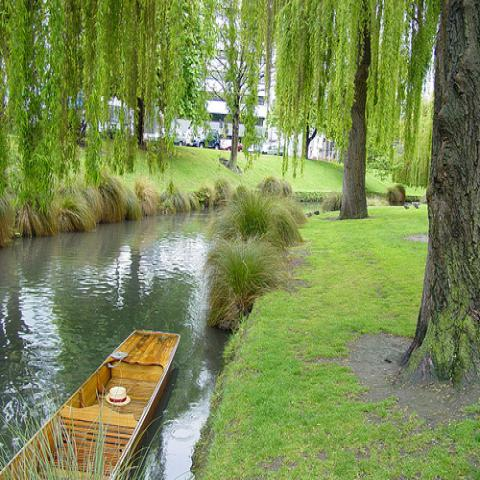car: (189, 131, 219, 150), (218, 139, 243, 153)
truck: (219, 139, 244, 153)
